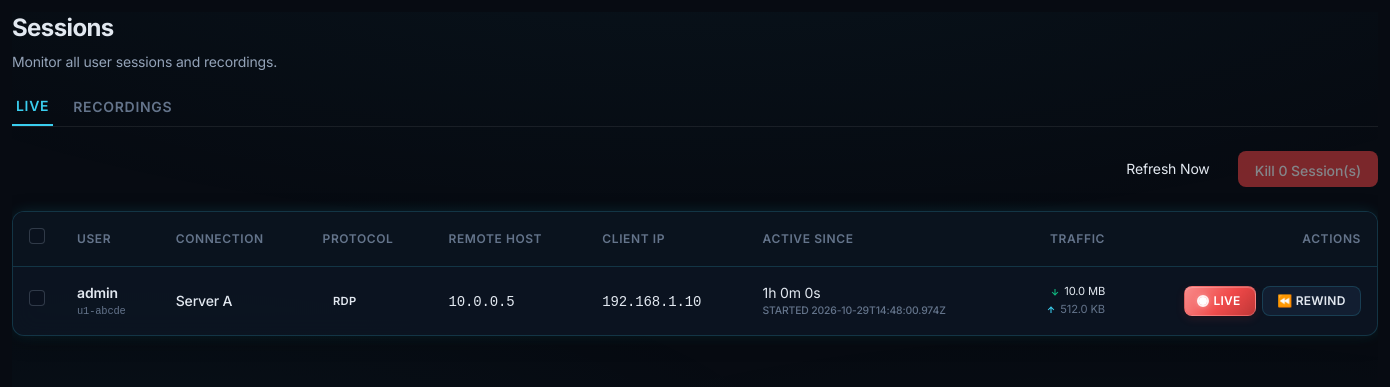
Scenario: Sessions › shows empty recordings state
Step 1. Click the button "Recordings" → [123, 111], box [69, 96, 176, 126]
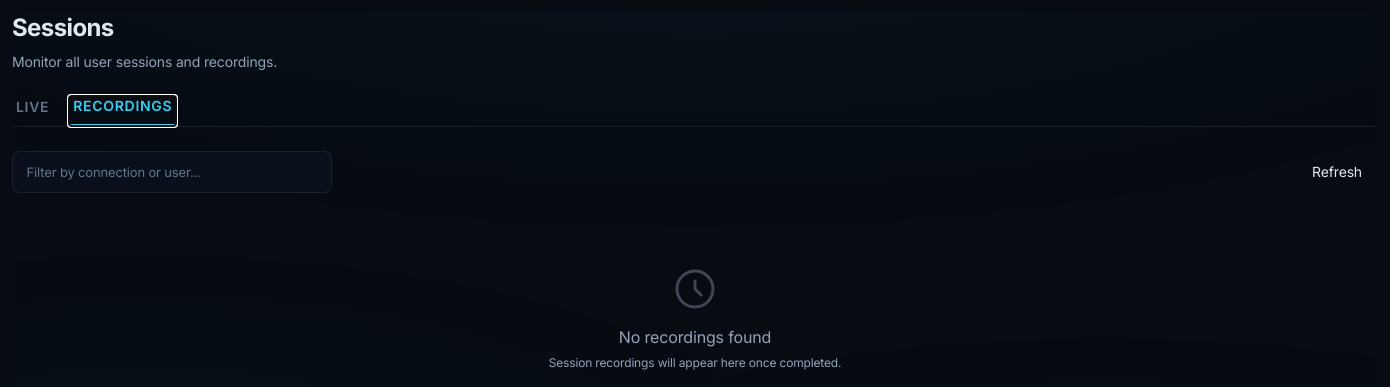
Result: the text "No recordings found" is shown at [619, 327, 771, 347]
